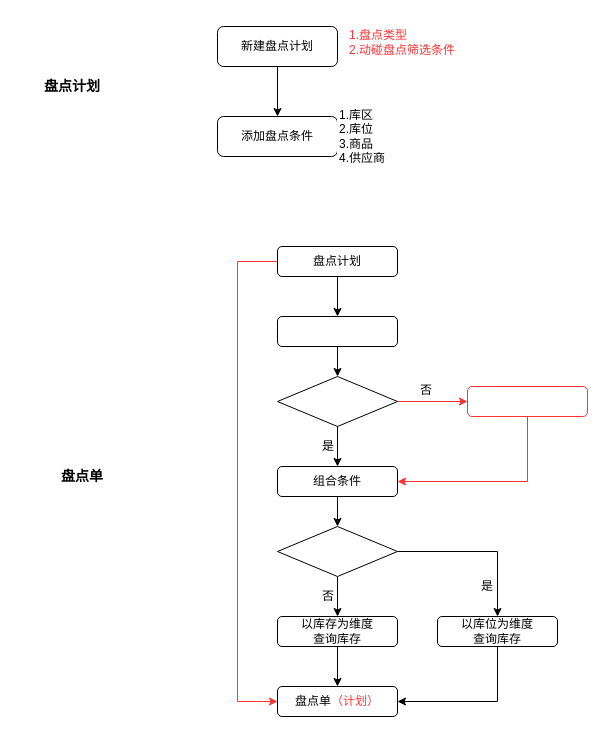
Some shapes in this 605 by 734 pixel diagram are drawn without their labels. Here are the shapes that lost their labels. From the top down, the centre of each, then its label:
the point at 337,331: 盘点条件1
the point at 337,401: 是否计划盘点
the point at 527,401: 盘点条件筛选子流程
the point at 205,476: 盘点类型
the point at 337,551: 是否支持空库位
